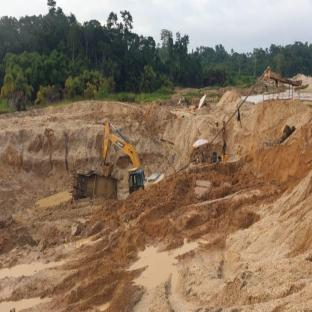ExcavationMachinery: (97, 122, 166, 201)
ProcessingEquipment: (254, 58, 305, 104)
